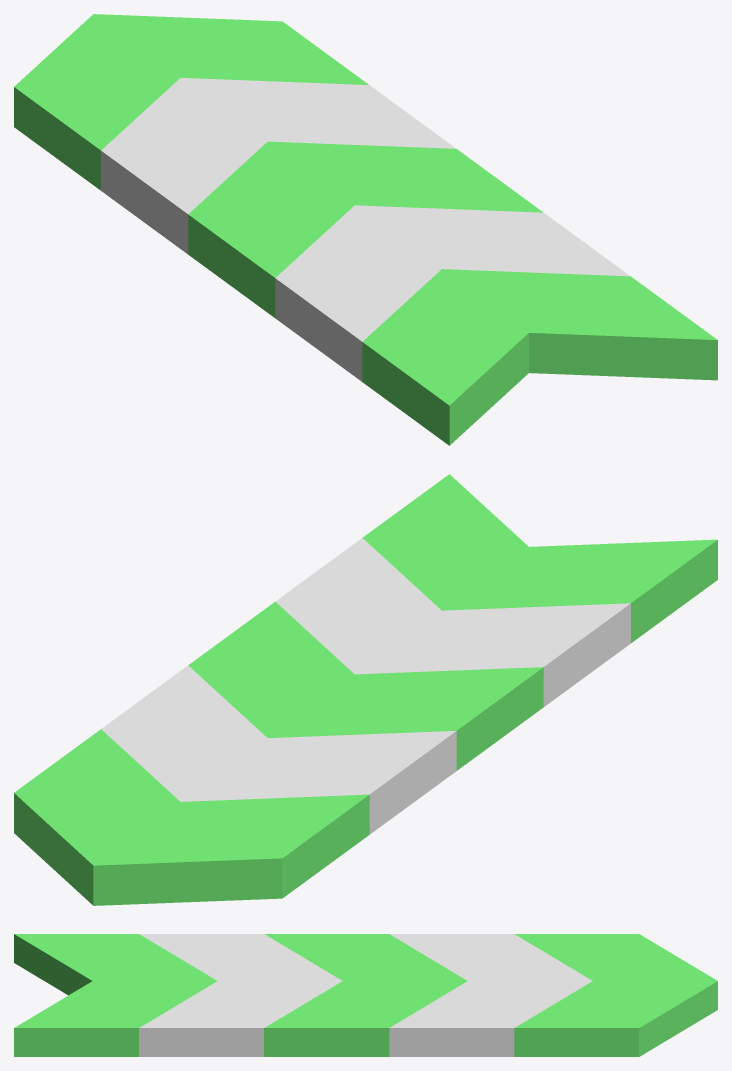
The model's file is boost_pad.glb.
3 views of the same model, one above another, from view 1: azimuth 30°, elevation 25°; view 2: azimuth 150°, elevation 25°; view 3: azimuth 270°, elevation 25° (orthographic). The views are drawn at different scales.
Visible parts, largest first — view 1: boost_pad; view 2: boost_pad; view 3: boost_pad.
Part boxes in pixels (x1,y1,x2,y2): boost_pad: (14, 14, 717, 445); boost_pad: (14, 474, 717, 905); boost_pad: (14, 934, 717, 1056).
Bounding box in the file's own units: 0.6899 × 0.0989 × 2.18.
1 material, 1 textured.
